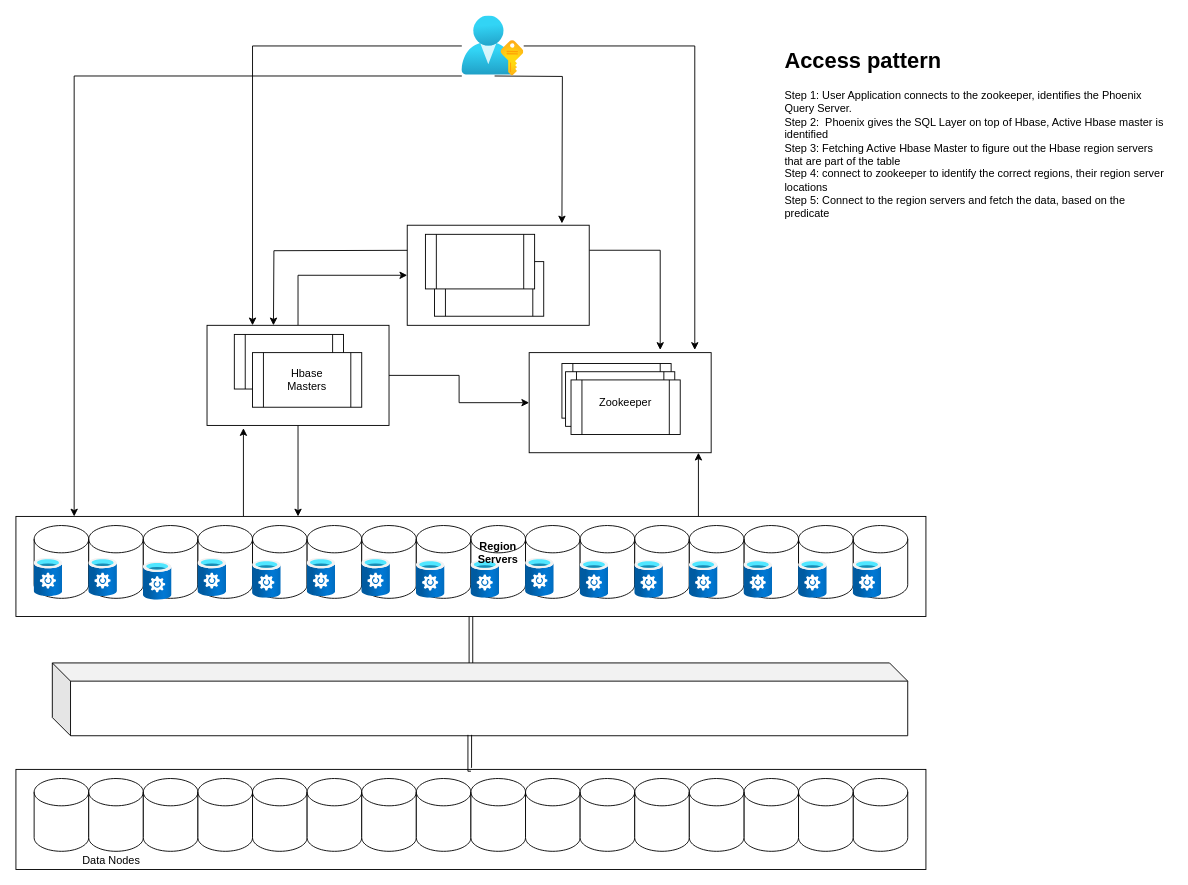
Some shapes in this 1188 by 885 pixel diagram are drawn without their labels. The centre of each missing label's shape, as x and y in pixels:
"HDFS" goes at (479,699).
"Phoenix" goes at (480,261).
